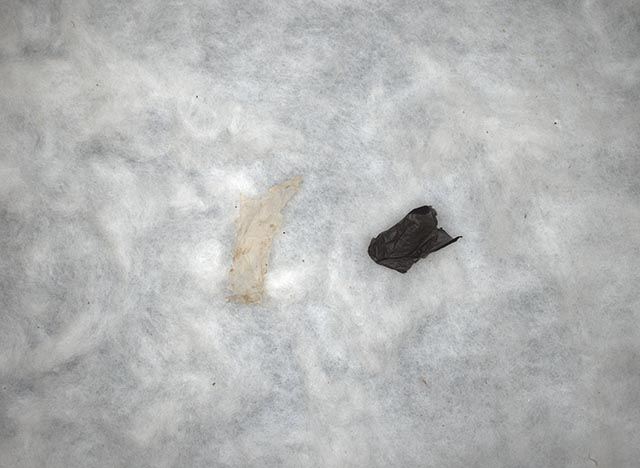plastic film: (224, 173, 306, 306), (368, 204, 463, 276)
